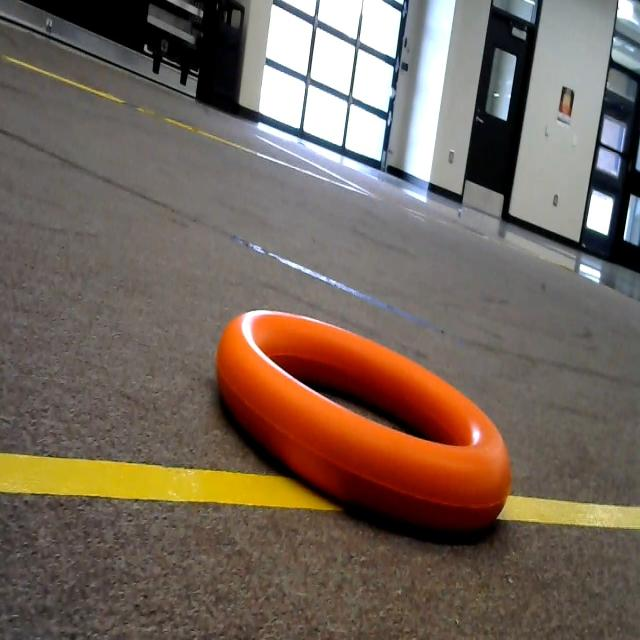note: (199, 272, 531, 540)
